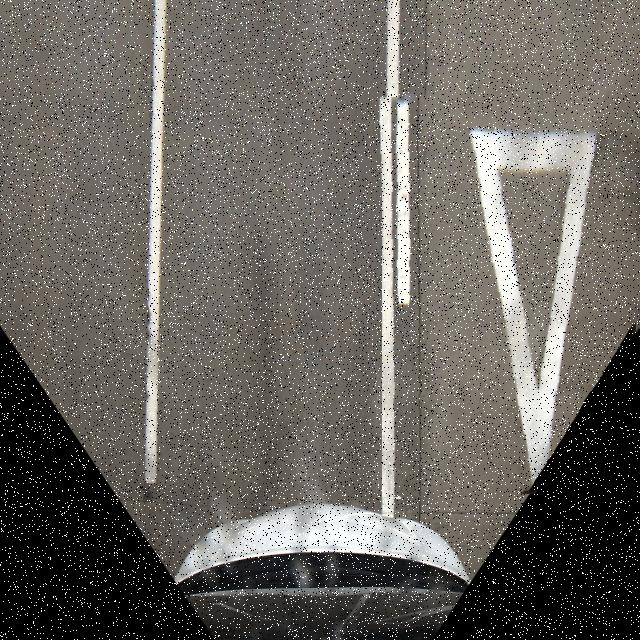yangbo: (382, 91, 640, 497)
